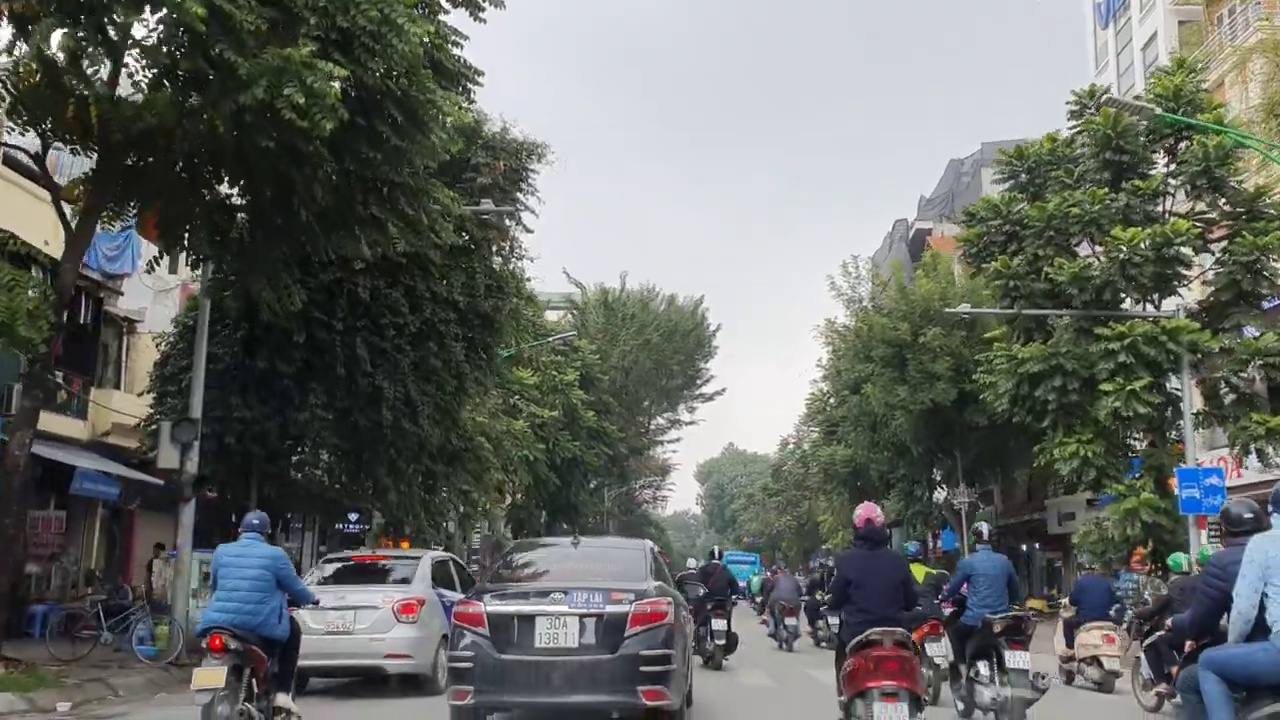person: (320, 609, 356, 632), (193, 665, 225, 688)
